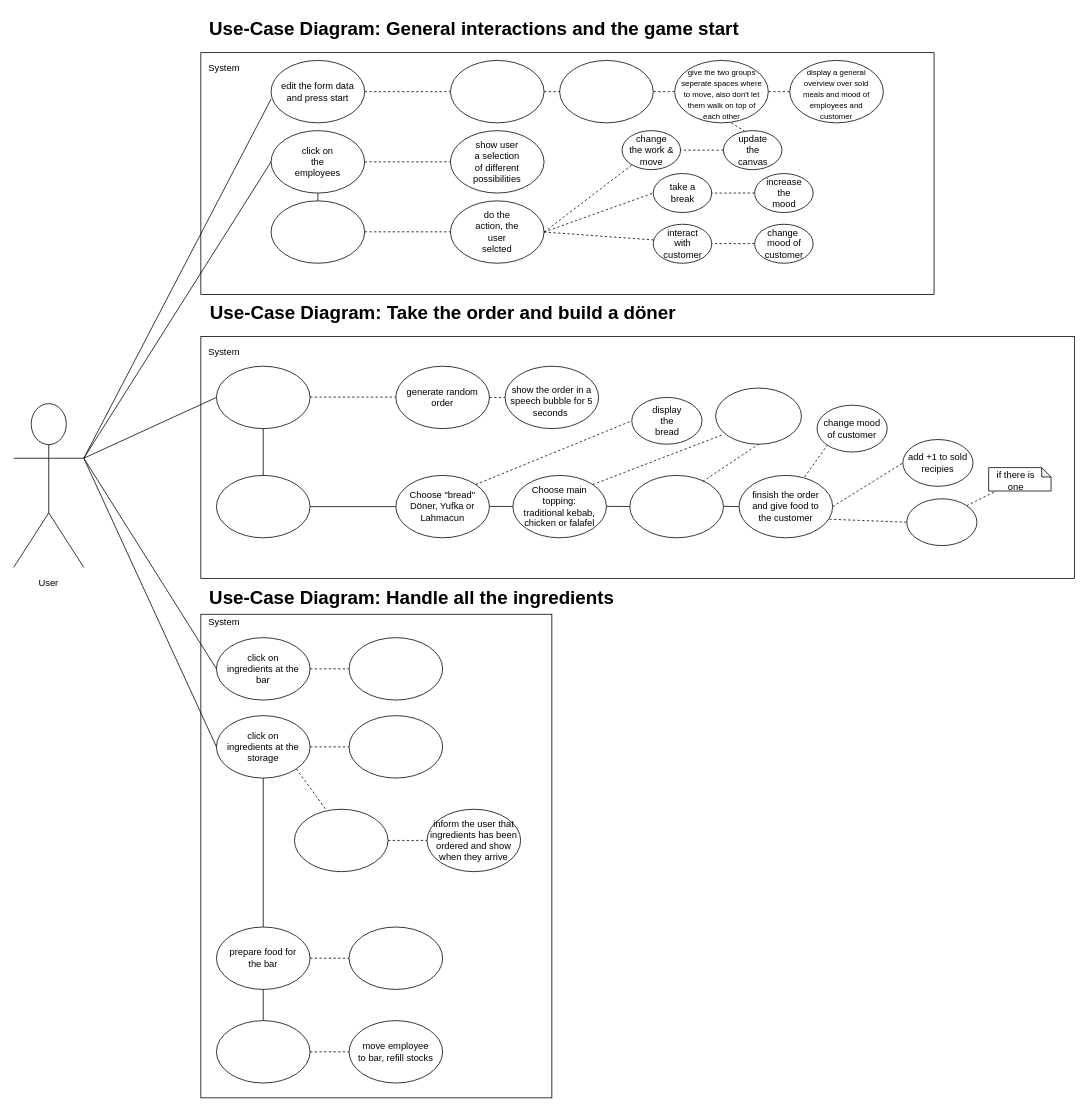
The diagram is 1088 pixels wide and 1112 high, and some of its shapes have lost their labels. Each missing label, with the centre of its shape:
"build dürum, döner, etcc." goes at pixel 263 506.
"build up canvas and draw user interface with employees and customers" goes at pixel 606 91.
"choose an interaction (take a break e.g)" goes at pixel 317 231.
"click on first customer in the row and take their order" goes at pixel 263 397.
"click on the food to fill up the bar" goes at pixel 263 1051.
"do not execute immediately, set timeout" goes at pixel 395 957.
"give acoustic signal that toping has been placed" goes at pixel 758 415.
"hand the parameters over to main program" goes at pixel 497 91.
"next customer in row" goes at pixel 941 522.
"order new ingredients" goes at pixel 341 840.
"Select all the ingredients" goes at pixel 676 506.
"show user the amount and possible actions" goes at pixel 395 668.
"show user the amount and the following actions" goes at pixel 395 746.
